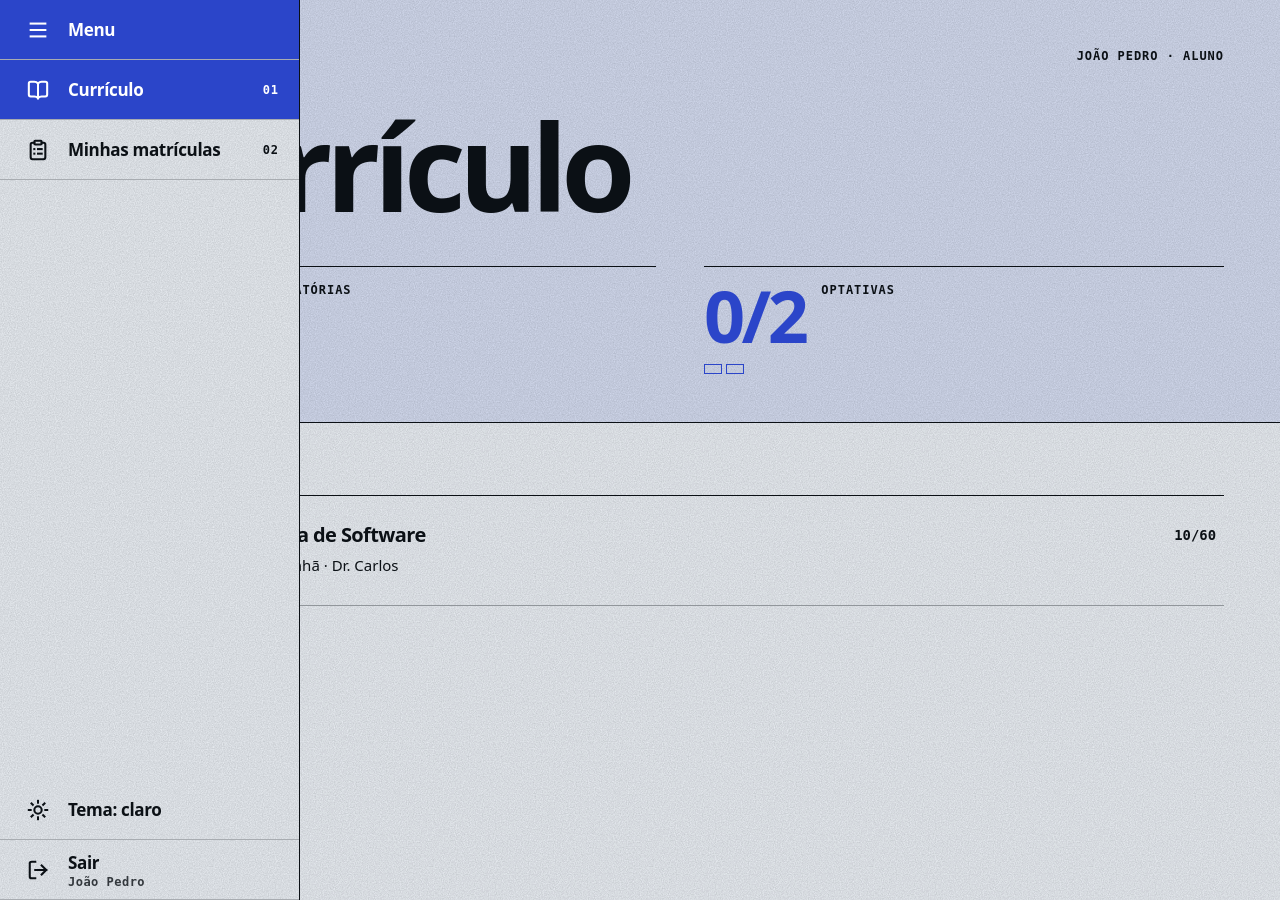
Test case: rotas › sair encerra a sessão e volta para a entrada
Click the button "Sair João Pedro" at (84, 862), box [0,840,299,899]
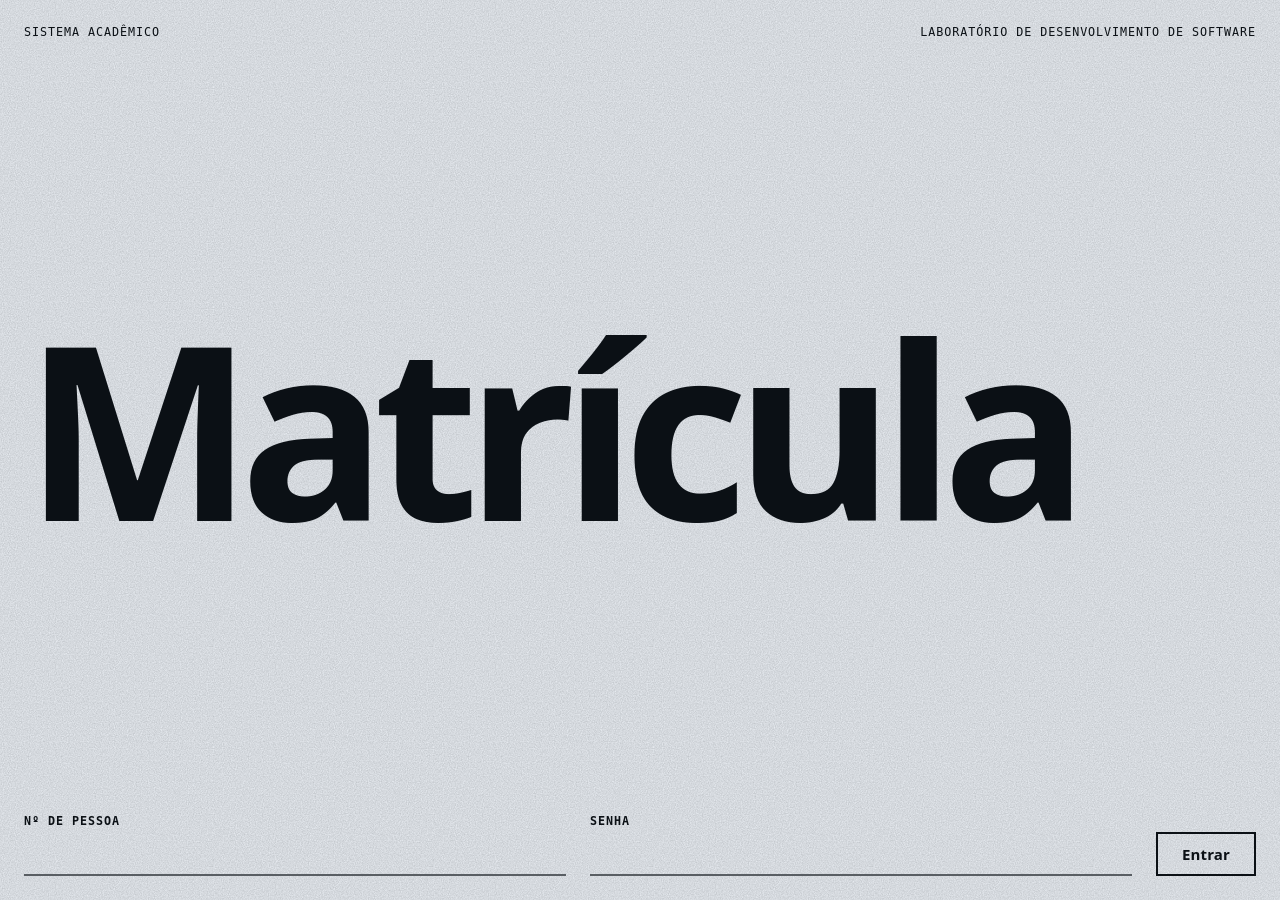
Now the form "Entrar" is shown, box [24,814,1256,876]
